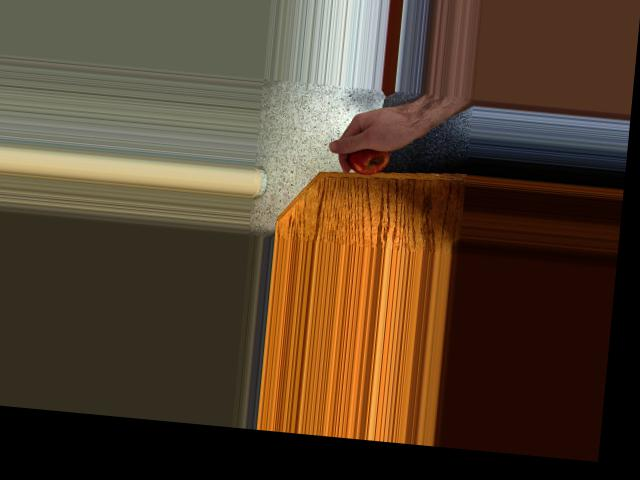apple: (342, 129, 401, 178)
